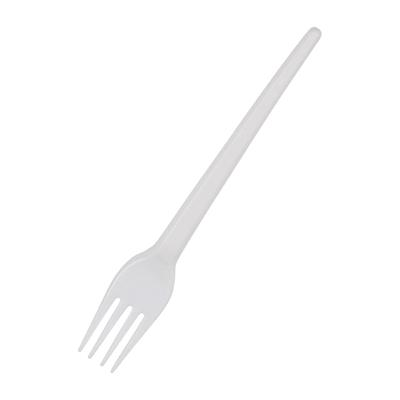Fork: (78, 26, 322, 373)
